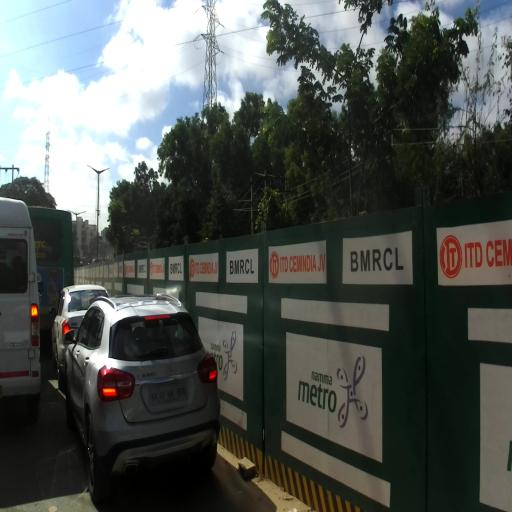street_light_0: (87, 165, 100, 176), (98, 167, 111, 176), (67, 210, 77, 218), (76, 211, 86, 218)
